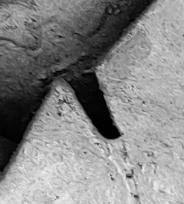crack: (1, 0, 184, 204)
